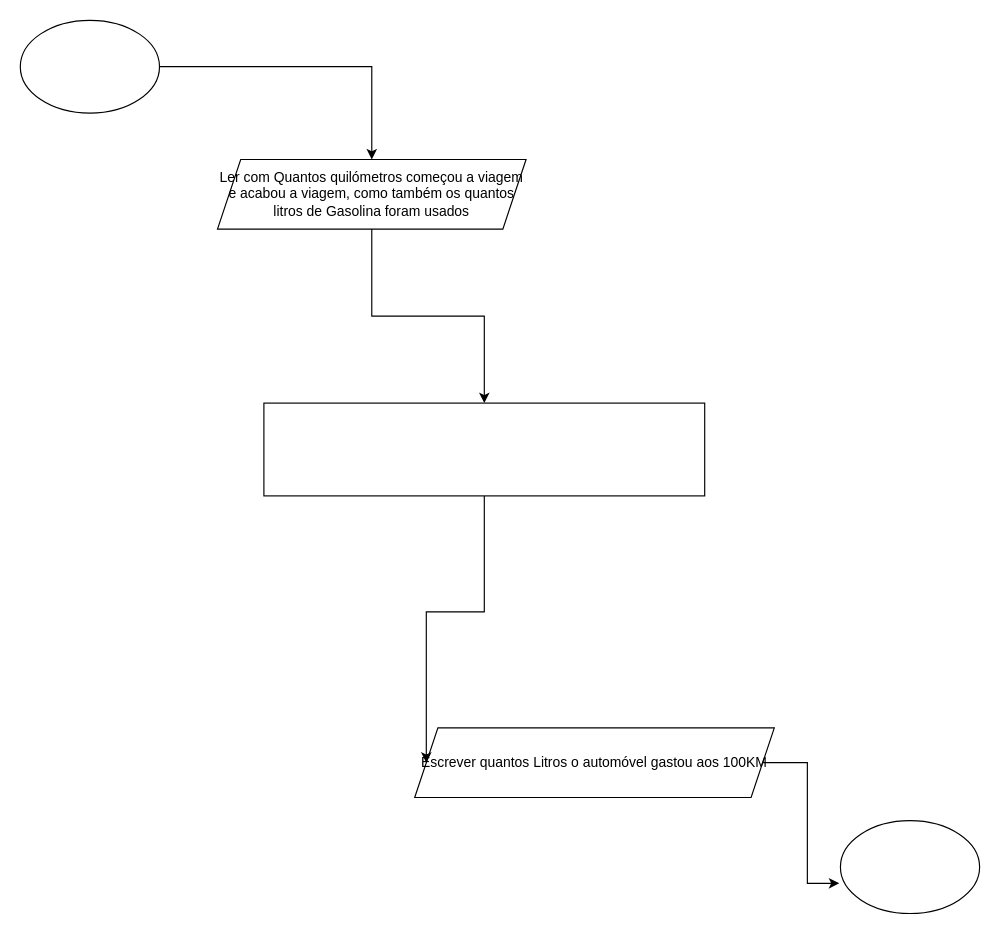
Image size: 1000x934. Some labels were removed from this diagram. Here are the shapes that lost their labels. From the top down, the centre of each, then its label:
At (89,66): "Início".
At (909,866): "Fim".
